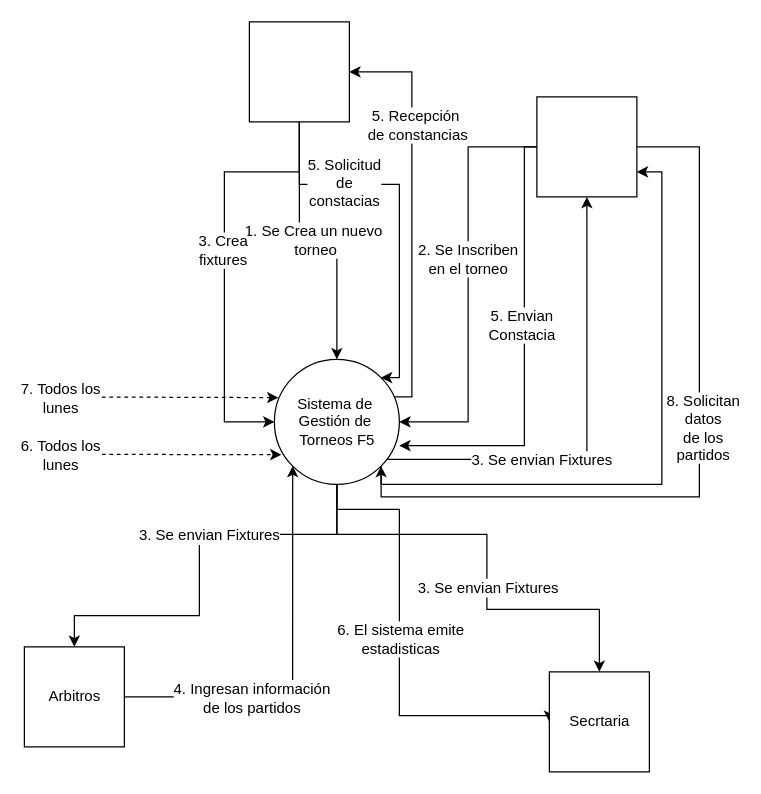
The diagram is 761 pixels wide and 794 high, and some of its shapes have lost their labels. The centre of each missing label's shape, as x and y in pixels:
"Equipos" belongs at [586,146].
"Organización" belongs at [298,71].
